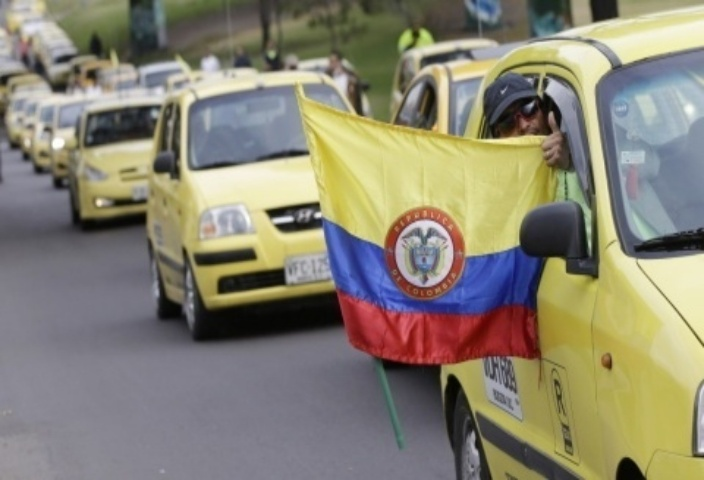taxi: (424, 34, 704, 458), (128, 77, 391, 336), (70, 109, 197, 223), (55, 99, 127, 176)
